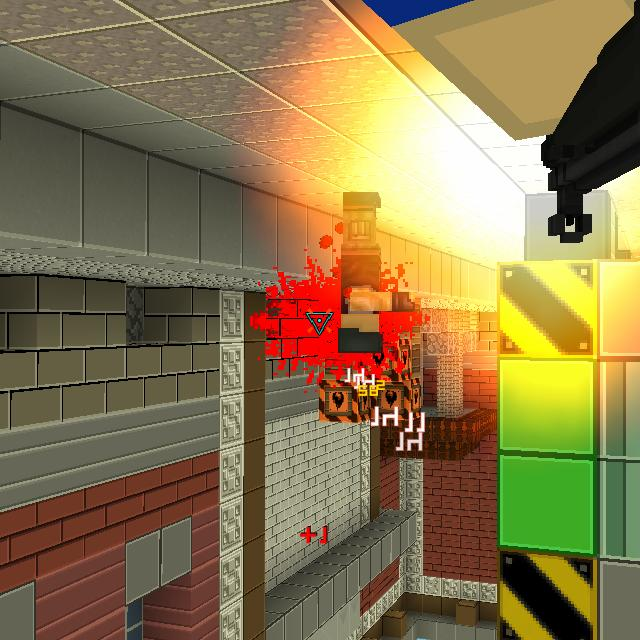enemy: (334, 192, 421, 372)
